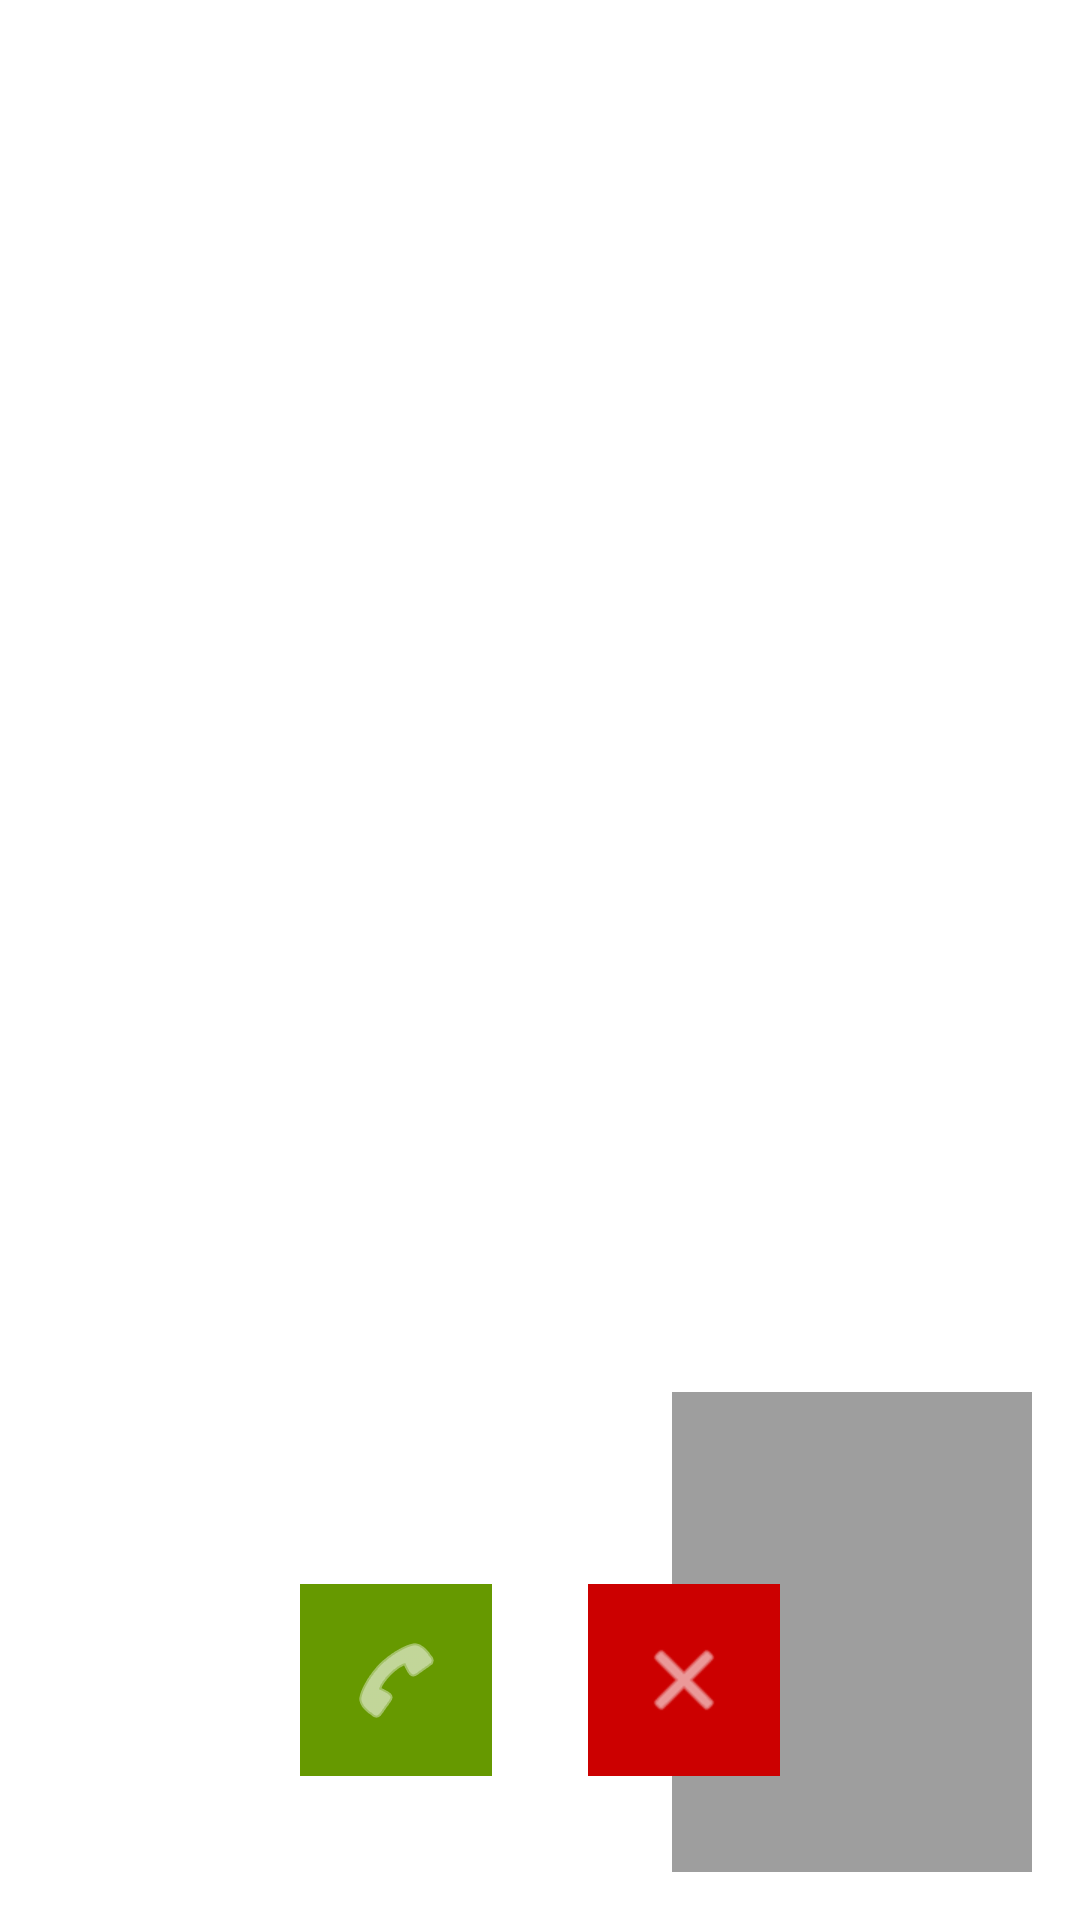

Icon click points for this 1080 x 1920 phone screenshot, format point (x, y):
Join Call: point (396, 1680)
Leave Call: point (684, 1680)
